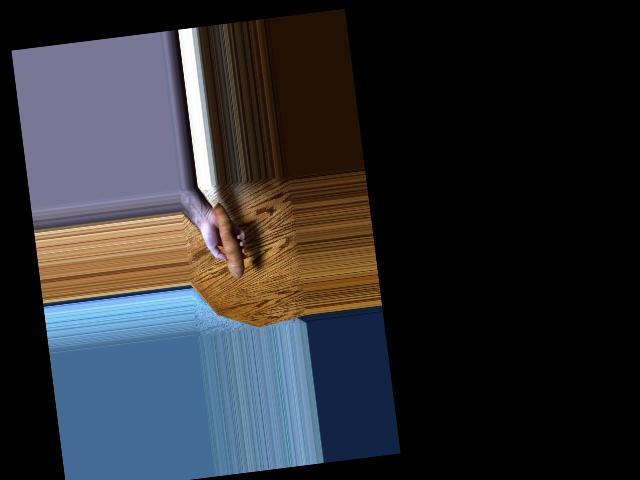sweet_potato: (211, 204, 251, 280)
